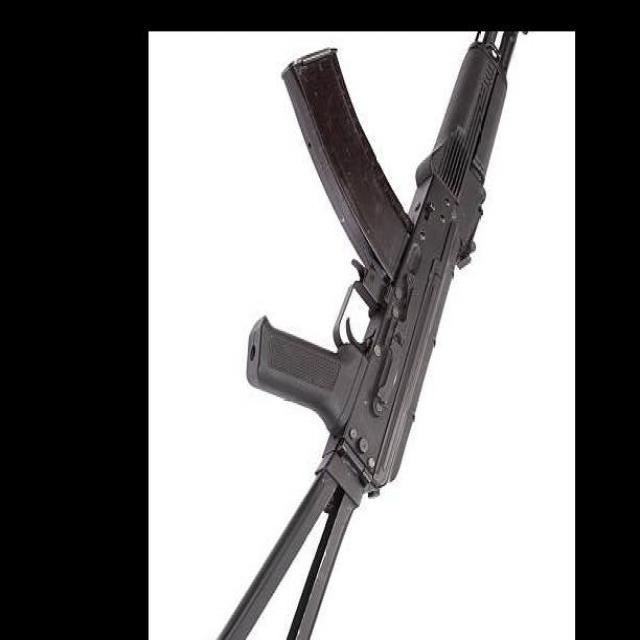weapon: (216, 32, 531, 640)
